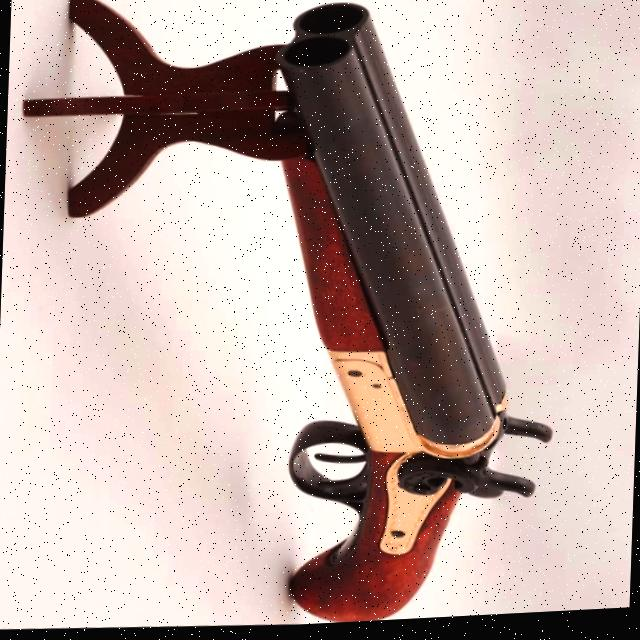firearm: (253, 0, 569, 630)
